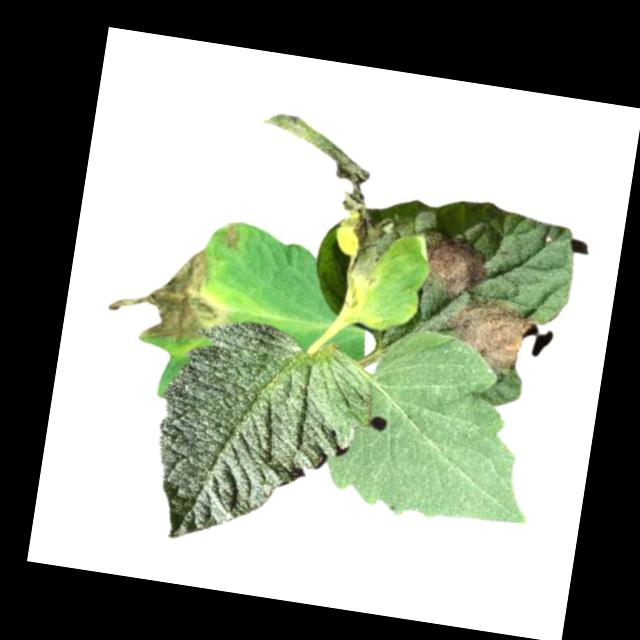Late_blight: (235, 110, 413, 305), (103, 236, 232, 350), (437, 295, 540, 385), (411, 226, 499, 304), (217, 220, 245, 253)
